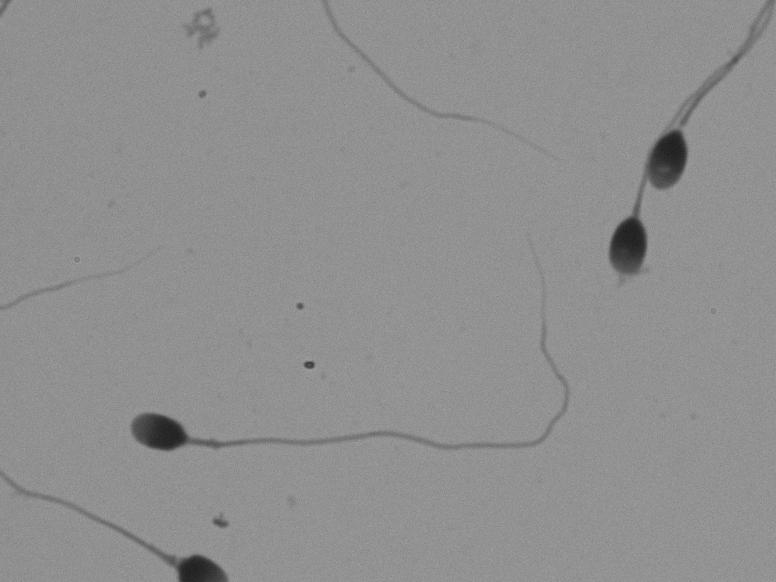Normal: (123, 238, 593, 510), (591, 12, 752, 363)
